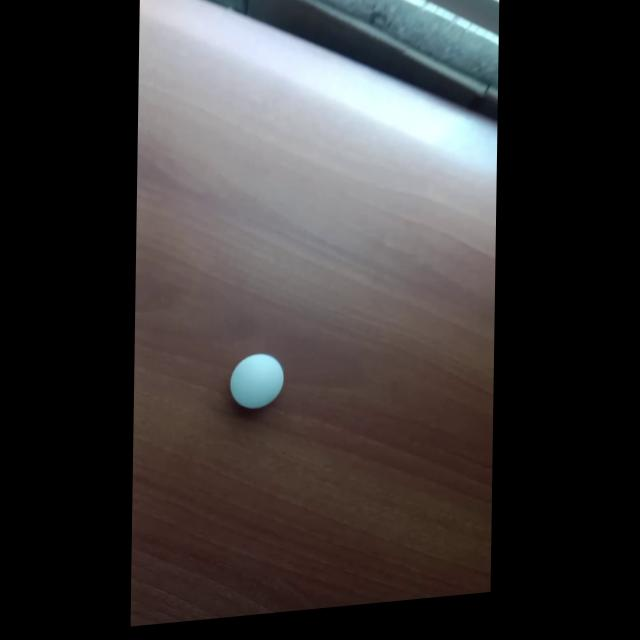white ball: (228, 350, 284, 411)
